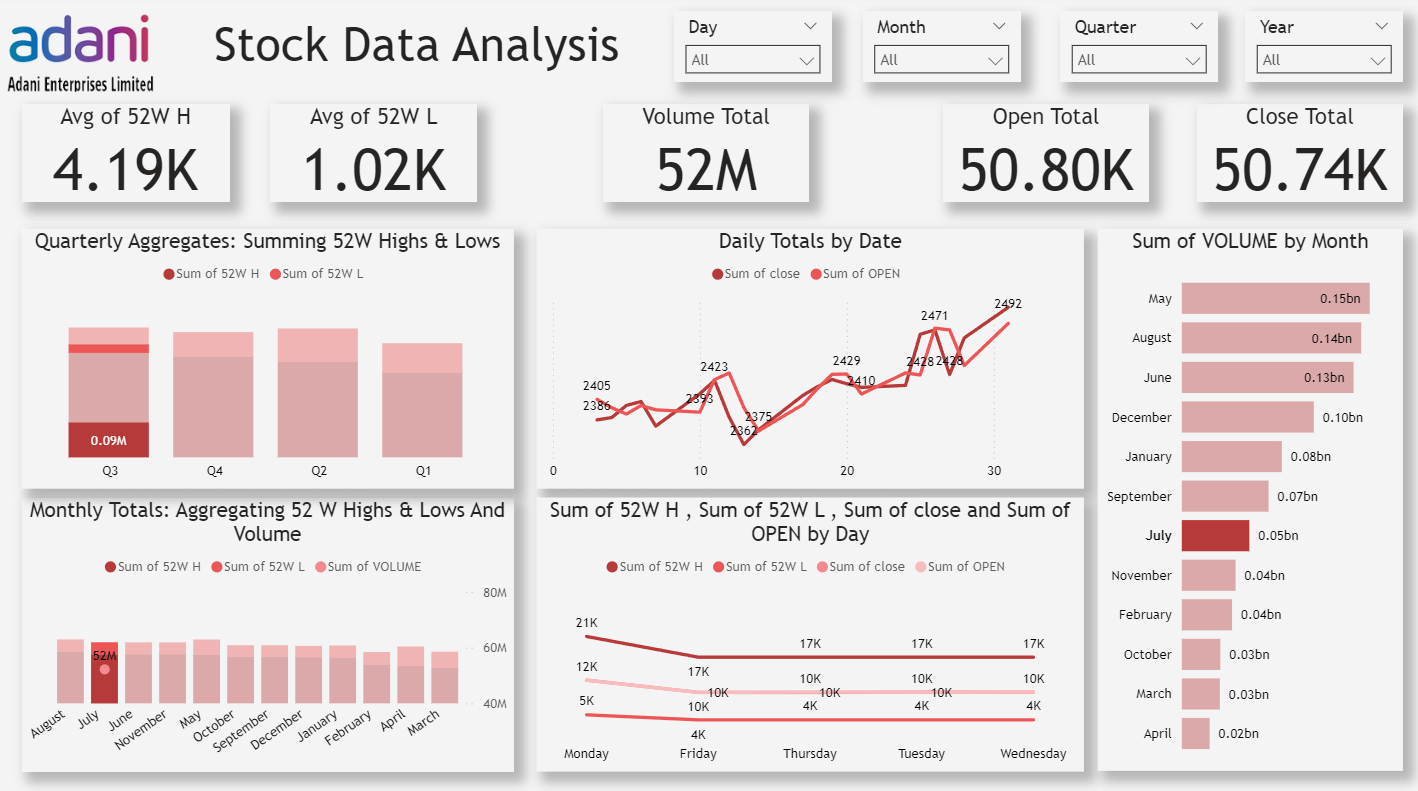

What the dashboard file says about the page in this screenshot:
{"tool":"powerbi","page":{"name":"Page 1","canvas":[1280,720],"ordinal":0},"visuals":[{"type":"slicer","fields":{"Values":["ADANI ENTERPRISES LIMITED.Day"]},"box":[608.5,14.8,142.2,63.7],"z":0},{"type":"slicer","fields":{"Values":["ADANI ENTERPRISES LIMITED.Month"]},"box":[779.1,14.8,142.2,63.7],"z":1000},{"type":"slicer","fields":{"Values":["ADANI ENTERPRISES LIMITED.Quarter"]},"box":[956.6,14.8,142.2,63.7],"z":2000},{"type":"slicer","fields":{"Values":["ADANI ENTERPRISES LIMITED.Year"]},"box":[1123.8,14.8,142.2,63.7],"z":3000},{"type":"card","title":"Avg of 52W H","fields":{"Values":["Avg(ADANI ENTERPRISES LIMITED.52W H )"]},"box":[20.5,97.8,187.7,88.7],"z":4000},{"type":"card","title":"Avg of 52W L","fields":{"Values":["Avg(ADANI ENTERPRISES LIMITED.52W L )"]},"box":[244.5,97.8,186.5,88.7],"z":5000},{"type":"card","title":"Close Total","fields":{"Values":["Sum(ADANI ENTERPRISES LIMITED.close )"]},"box":[1079.4,97.8,186.5,88.7],"z":6000},{"type":"card","title":"Open Total","fields":{"Values":["Sum(ADANI ENTERPRISES LIMITED.OPEN )"]},"box":[850.8,97.8,186.5,88.7],"z":7000},{"type":"card","title":"Volume Total","fields":{"Values":["Sum(ADANI ENTERPRISES LIMITED.VOLUME )"]},"box":[544.8,97.8,186.5,88.7],"z":8000},{"type":"columnChart","title":"Quarterly Aggregates: Summing 52W Highs & Lows","fields":{"Y":["Sum(ADANI ENTERPRISES LIMITED.52W H )","Sum(ADANI ENTERPRISES LIMITED.52W L )"],"Category":["ADANI ENTERPRISES LIMITED.Quarter"]},"box":[20.5,210.4,443.6,234.3],"z":9000},{"type":"lineStackedColumnComboChart","title":"Monthly Totals: Aggregating 52 W Highs & Lows And Volume","fields":{"Y":["Sum(ADANI ENTERPRISES LIMITED.52W H )","Sum(ADANI ENTERPRISES LIMITED.52W L )"],"Category":["ADANI ENTERPRISES LIMITED.Month"],"Y2":["Sum(ADANI ENTERPRISES LIMITED.VOLUME )"]},"box":[20.5,452.7,443.6,246.8],"z":10000},{"type":"lineChart","title":"Daily Totals by Date","fields":{"Y":["Sum(ADANI ENTERPRISES LIMITED.close )","Sum(ADANI ENTERPRISES LIMITED.OPEN )"],"Category":["ADANI ENTERPRISES LIMITED.Date .Variation.Date Hierarchy.Day"]},"box":[484.5,210.4,493.6,234.3],"z":11000},{"type":"lineChart","fields":{"Y":["Sum(ADANI ENTERPRISES LIMITED.52W H )","Sum(ADANI ENTERPRISES LIMITED.52W L )","Sum(ADANI ENTERPRISES LIMITED.close )","Sum(ADANI ENTERPRISES LIMITED.OPEN )"],"Category":["ADANI ENTERPRISES LIMITED.Day"]},"box":[484.5,452.7,493.6,246.8],"z":12000},{"type":"clusteredBarChart","fields":{"Category":["ADANI ENTERPRISES LIMITED.Month"],"Y":["Sum(ADANI ENTERPRISES LIMITED.VOLUME )"]},"box":[990.7,210.4,275.3,489.1],"z":13000},{"type":"image","box":[0,0,147.9,92.1],"z":14000},{"type":"textbox","box":[164.9,14.8,424.3,63.7],"z":15000}]}

Visuals, with their boxes in screenshot pixels (x1, y1, x2, y2), scaled from the page's 1280x720 canvas onto the 1418x791 screenshot:
slicer - ADANI ENTERPRISES LIMITED.Day: {"left": 674, "top": 16, "right": 832, "bottom": 86}
slicer - ADANI ENTERPRISES LIMITED.Month: {"left": 863, "top": 16, "right": 1021, "bottom": 86}
slicer - ADANI ENTERPRISES LIMITED.Quarter: {"left": 1060, "top": 16, "right": 1217, "bottom": 86}
slicer - ADANI ENTERPRISES LIMITED.Year: {"left": 1245, "top": 16, "right": 1402, "bottom": 86}
"Avg of 52W H" card: {"left": 23, "top": 107, "right": 231, "bottom": 205}
"Avg of 52W L" card: {"left": 271, "top": 107, "right": 477, "bottom": 205}
"Close Total" card: {"left": 1196, "top": 107, "right": 1402, "bottom": 205}
"Open Total" card: {"left": 943, "top": 107, "right": 1149, "bottom": 205}
"Volume Total" card: {"left": 604, "top": 107, "right": 810, "bottom": 205}
"Quarterly Aggregates: Summing 52W Highs & Lows" columnChart: {"left": 23, "top": 231, "right": 514, "bottom": 489}
"Monthly Totals: Aggregating 52 W Highs & Lows And Volume" lineStackedColumnComboChart: {"left": 23, "top": 497, "right": 514, "bottom": 768}
"Daily Totals by Date" lineChart: {"left": 537, "top": 231, "right": 1084, "bottom": 489}
lineChart - Sum(ADANI ENTERPRISES LIMITED.52W H ) x Sum(ADANI ENTERPRISES LIMITED.52W L ): {"left": 537, "top": 497, "right": 1084, "bottom": 768}
clusteredBarChart - ADANI ENTERPRISES LIMITED.Month x Sum(ADANI ENTERPRISES LIMITED.VOLUME ): {"left": 1098, "top": 231, "right": 1402, "bottom": 768}
image: {"left": 0, "top": 0, "right": 164, "bottom": 101}
textbox: {"left": 183, "top": 16, "right": 653, "bottom": 86}
